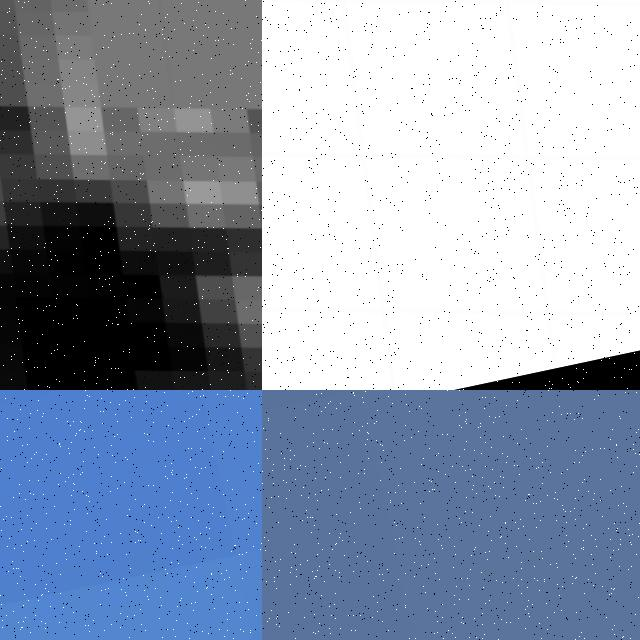0: (0, 0, 262, 390)
drone: (262, 0, 640, 390)
